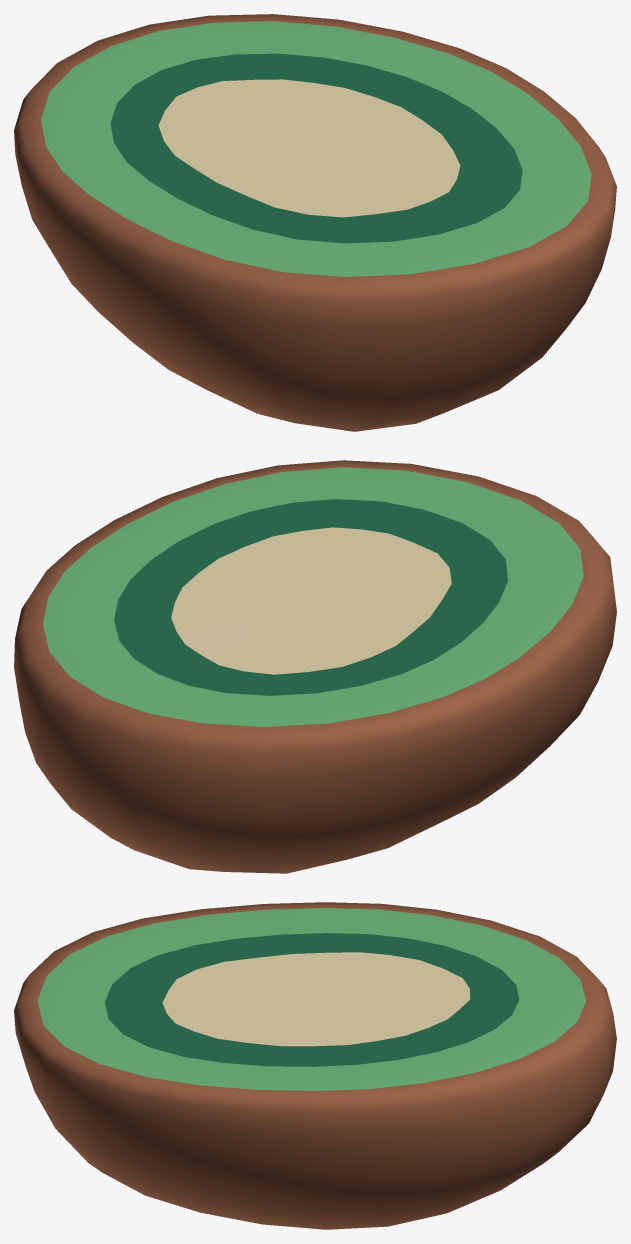
The model's file is Kiwicut_01.dae.
3 renders of one model, top to bottom at view 1: azimuth 30°, elevation 25°; view 2: azimuth 150°, elevation 25°; view 3: azimuth 270°, elevation 25°, orthographic. The views are drawn at different scales.
Parts seen in each view (by area): view 1: Kiwicut_01_LOD0; view 2: Kiwicut_01_LOD0; view 3: Kiwicut_01_LOD0.
Part boxes in pixels (x1,y1,x2,y2): Kiwicut_01_LOD0: (14,14,616,431); Kiwicut_01_LOD0: (14,460,616,873); Kiwicut_01_LOD0: (14,902,616,1229).
Size of what is drawn, in the model's own units: 3.1 by 3.91 by 1.44.
